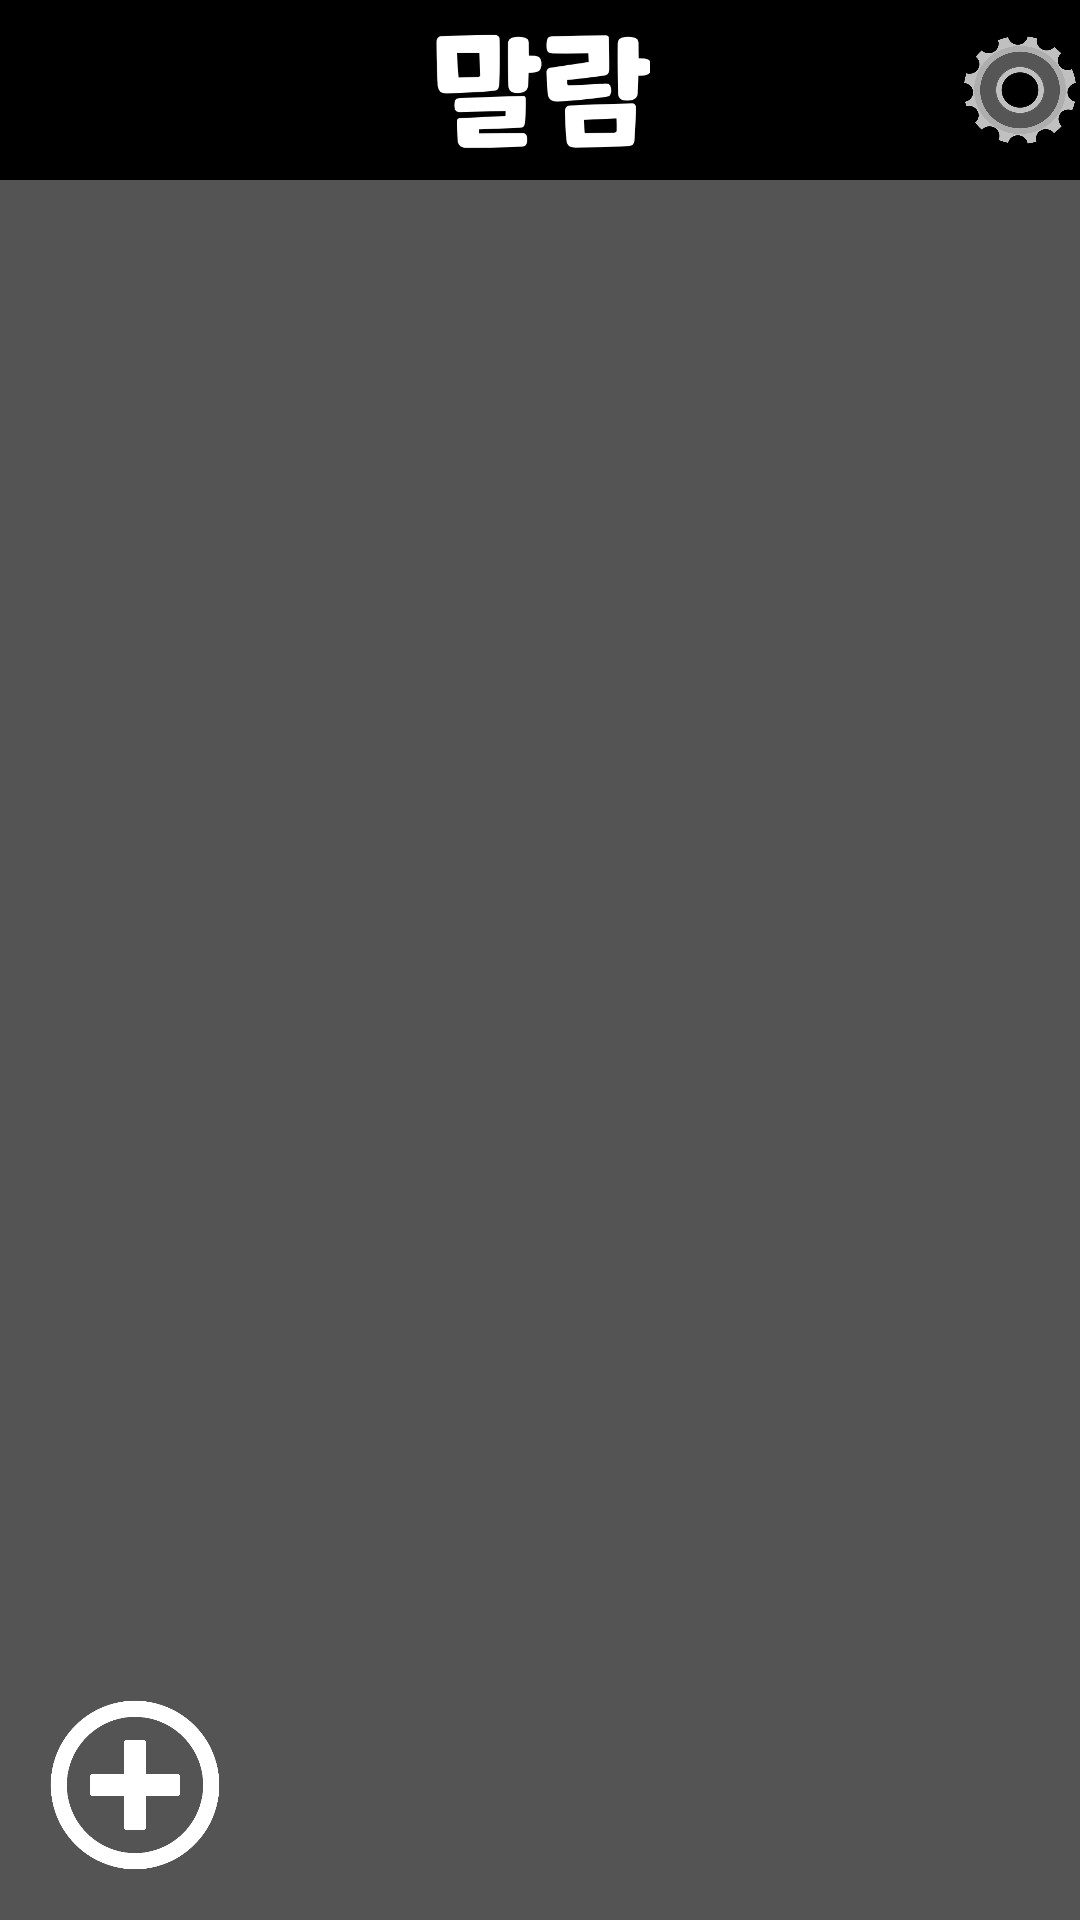

Screen size 1080 x 1920. Icon name, then its center in pixels as (x,y):
def set: (1020,90)
plus: (135,1785)
